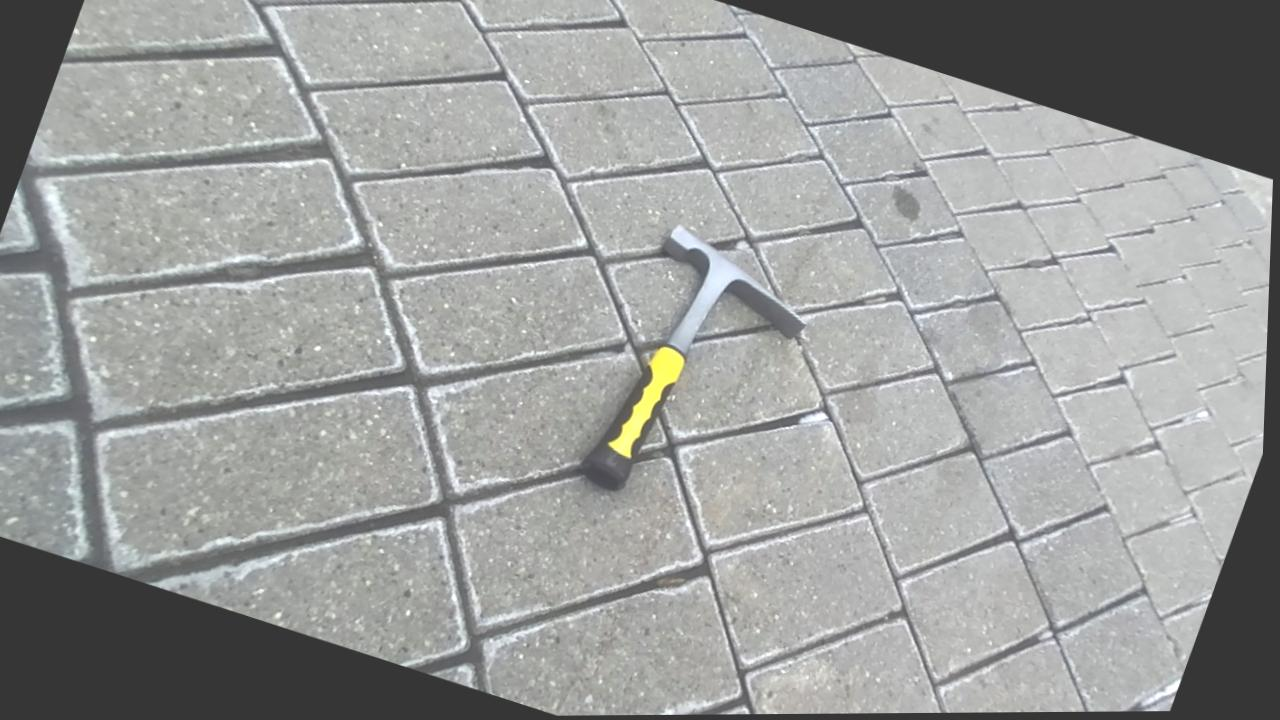pick: (579, 226, 805, 490)
